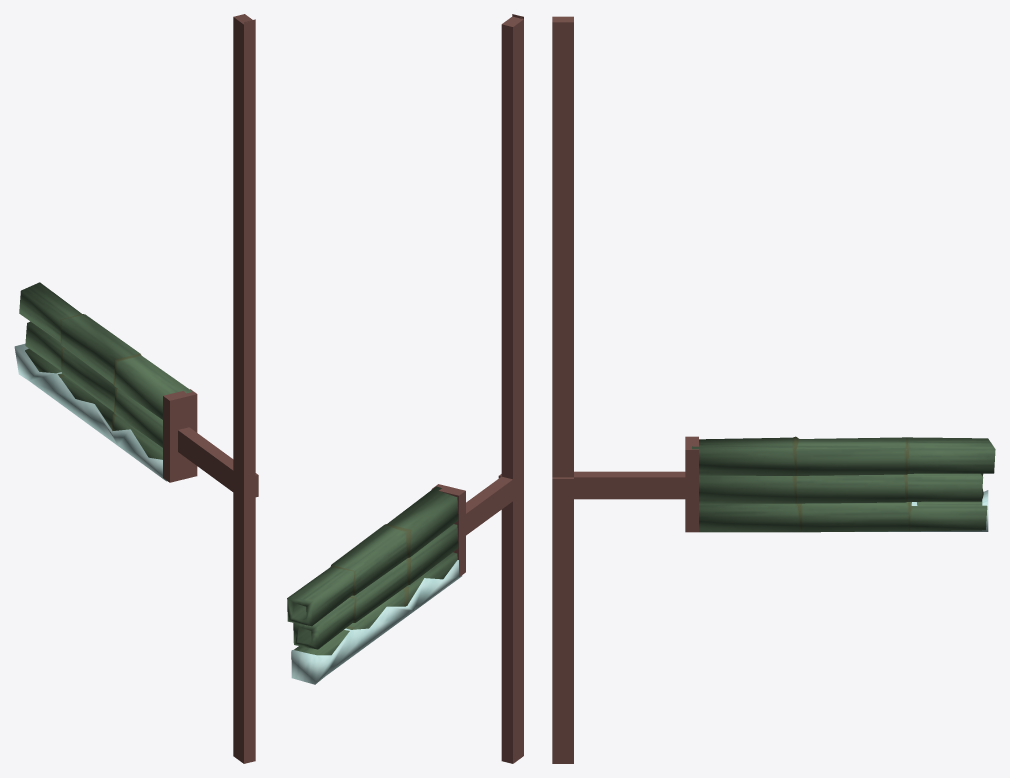
File: bamboo_protectedT_right_3.glb
The picture shows the model from 3 angles, left to right: view 1: azimuth 30°, elevation 25°; view 2: azimuth 150°, elevation 25°; view 3: azimuth 270°, elevation 25°; orthographic projection.
Visible parts, largest first — view 1: Stand.012, Obstacle.009; view 2: Stand.012, Obstacle.009; view 3: Obstacle.009, Stand.012.
Part boxes in pixels (bbox=[...]): Stand.012: bbox=[163, 14, 258, 763]; Obstacle.009: bbox=[14, 282, 192, 481]; Stand.012: bbox=[431, 14, 523, 763]; Obstacle.009: bbox=[287, 486, 462, 684]; Obstacle.009: bbox=[692, 436, 995, 532]; Stand.012: bbox=[552, 16, 698, 763].
Bounding box in the file's own units: 0.2489 × 5.55 × 2.99.
2 materials, 1 textured.
